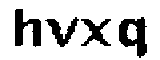h: (9, 5, 43, 51)
q: (116, 13, 153, 60)
v: (44, 14, 79, 49)
x: (82, 14, 113, 51)
